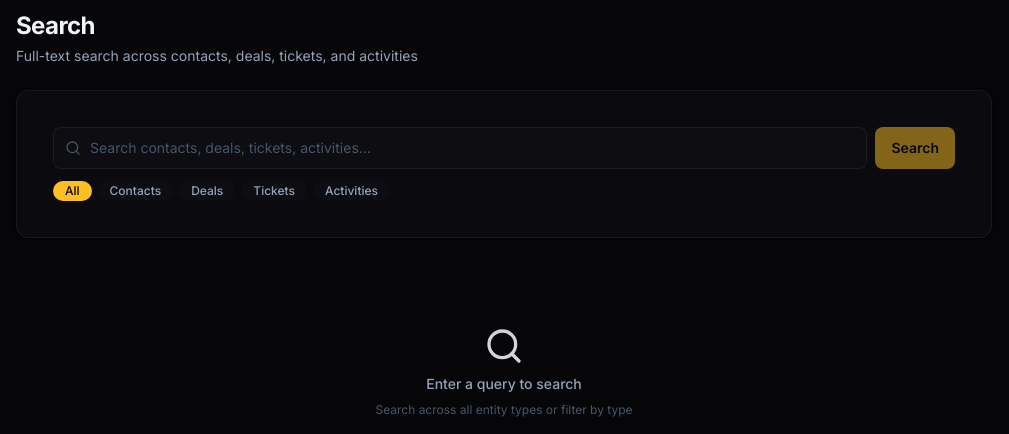
Search page › shows error state when API fails
Type "error-test" into the search field at (460, 148), box x1=53 y1=127 x2=868 y2=169
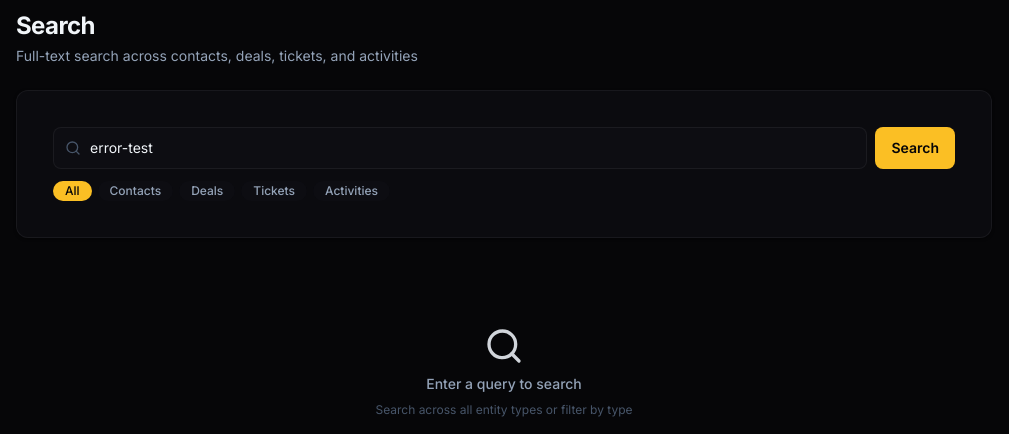
Click the button "Search" at (915, 148), box x1=876 y1=127 x2=955 y2=169
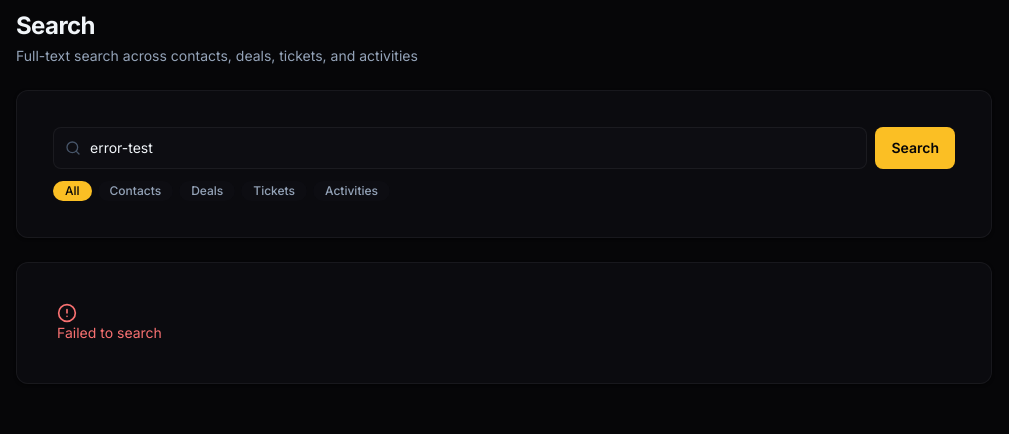
Check: the text "Failed to search" is shown, box x1=57 y1=323 x2=162 y2=343
